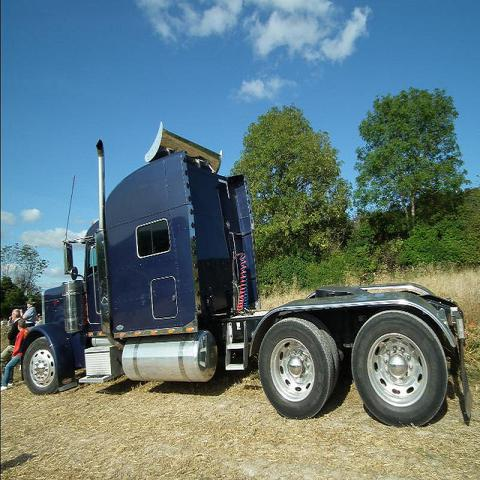truck: (19, 123, 472, 428)
